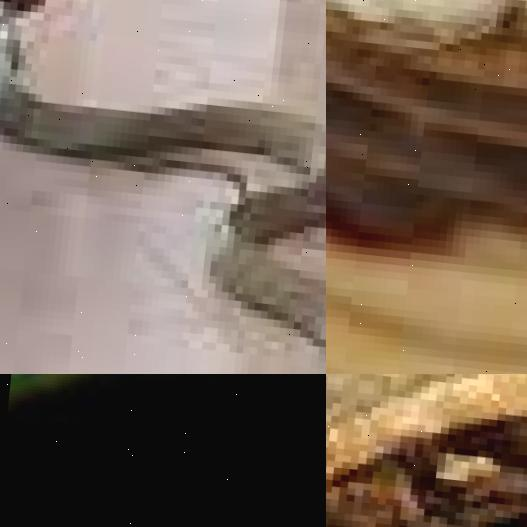snake: (0, 0, 326, 374), (326, 0, 527, 374), (0, 374, 326, 527), (326, 374, 527, 527)
